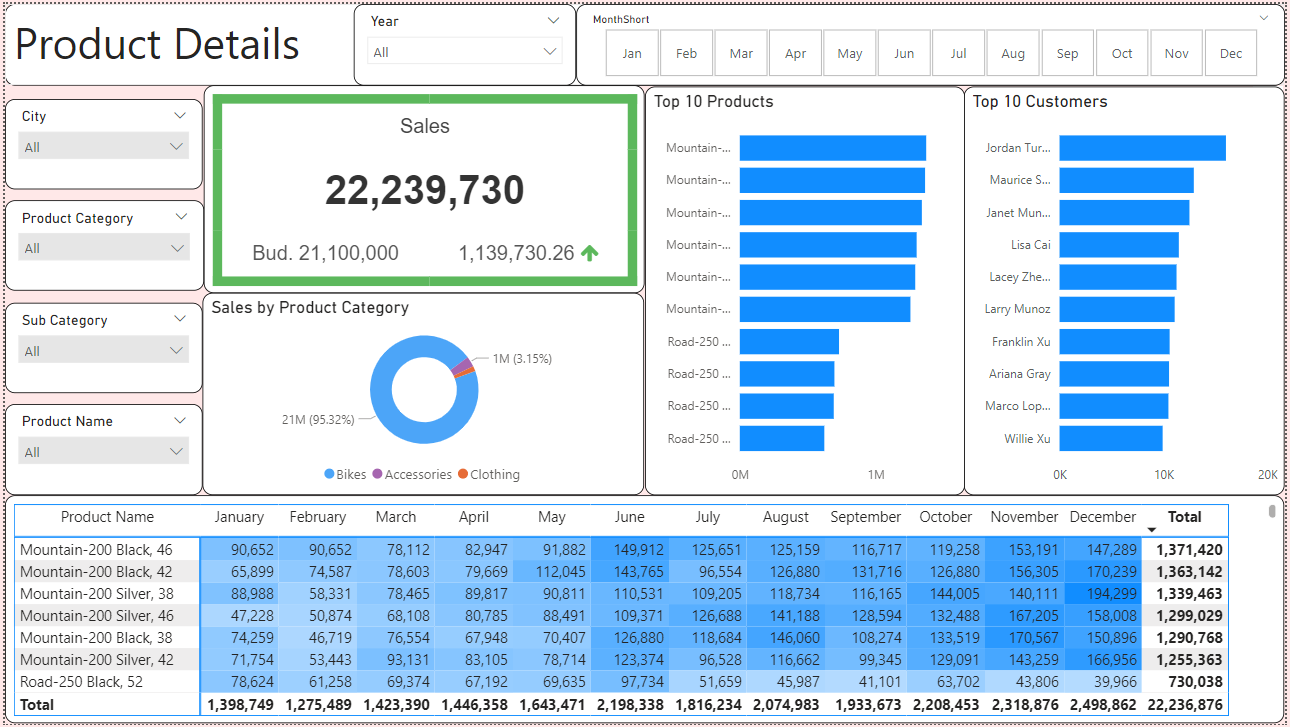

The page's visual inventory and layout, read from the dashboard file:
{"tool":"powerbi","page":{"name":"Product Details","canvas":[1280,720],"ordinal":2},"visuals":[{"type":"textbox","box":[0,0,1279.1,81.4],"z":0},{"type":"slicer","fields":{"Values":["Dim_Date.MonthShort"]},"box":[570.8,0,708.7,81.4],"z":1000},{"type":"slicer","fields":{"Values":["Dim_Date.Year"]},"box":[348.1,0,222.7,81.4],"z":2000},{"type":"slicer","fields":{"Values":["Dim_Customer.City"]},"box":[0,94.9,197.8,90.4],"z":3000},{"type":"slicer","fields":{"Values":["Dim_Product.Product Name"]},"box":[0,400.1,197.8,91.6],"z":4000},{"type":"slicer","fields":{"Values":["Dim_Product.Sub Category"]},"box":[0,298.4,197.8,90.4],"z":5000},{"type":"slicer","fields":{"Values":["Dim_Product.Product Category"]},"box":[0,196.7,198.9,90.4],"z":6000},{"type":"BBED0A4D4D8D44CE93CF2DAFADEE466C","fields":{"actual":["Measure.Sales"],"target1":["Measure.BudgetAmt"],"target2":["Measure.Sales - Bud"]},"box":[198.8,81.4,440.7,208.1],"z":7000},{"type":"donutChart","fields":{"Category":["Dim_Product.Product Category"],"Y":["Measure.Sales"]},"box":[197.8,289.4,441.9,202.3],"z":8000},{"type":"barChart","title":"Top 10 Customers","fields":{"Y":["Measure.Sales"],"Category":["Dim_Customer.Fullname"]},"box":[958.5,82.5,321,409.2],"z":9000},{"type":"barChart","title":"Top 10 Products","fields":{"Y":["Measure.Sales"],"Category":["Dim_Product.Product Name"]},"box":[639.7,82.5,319.9,409.2],"z":10000},{"type":"pivotTable","fields":{"Rows":["Dim_Product.Product Name"],"Values":["Measure.Sales"],"Columns":["Dim_Date.Date.Variation.Date Hierarchy.Month"]},"box":[0,491.9,1279.1,227.9],"z":11000}]}

Visuals, with their boxes in screenshot pixels (x1, y1, x2, y2), scaled from the page's 1280x720 canvas onto the 1290x727 screenshot:
textbox: [left=0, top=0, right=1289, bottom=82]
slicer - Dim_Date.MonthShort: [left=575, top=0, right=1289, bottom=82]
slicer - Dim_Date.Year: [left=351, top=0, right=575, bottom=82]
slicer - Dim_Customer.City: [left=0, top=96, right=199, bottom=187]
slicer - Dim_Product.Product Name: [left=0, top=404, right=199, bottom=496]
slicer - Dim_Product.Sub Category: [left=0, top=301, right=199, bottom=393]
slicer - Dim_Product.Product Category: [left=0, top=199, right=200, bottom=290]
BBED0A4D4D8D44CE93CF2DAFADEE466C - Measure.Sales x Measure.BudgetAmt: [left=200, top=82, right=644, bottom=292]
donutChart - Dim_Product.Product Category x Measure.Sales: [left=199, top=292, right=645, bottom=496]
"Top 10 Customers" barChart: [left=966, top=83, right=1289, bottom=496]
"Top 10 Products" barChart: [left=645, top=83, right=967, bottom=496]
pivotTable - Dim_Product.Product Name x Measure.Sales: [left=0, top=497, right=1289, bottom=726]
